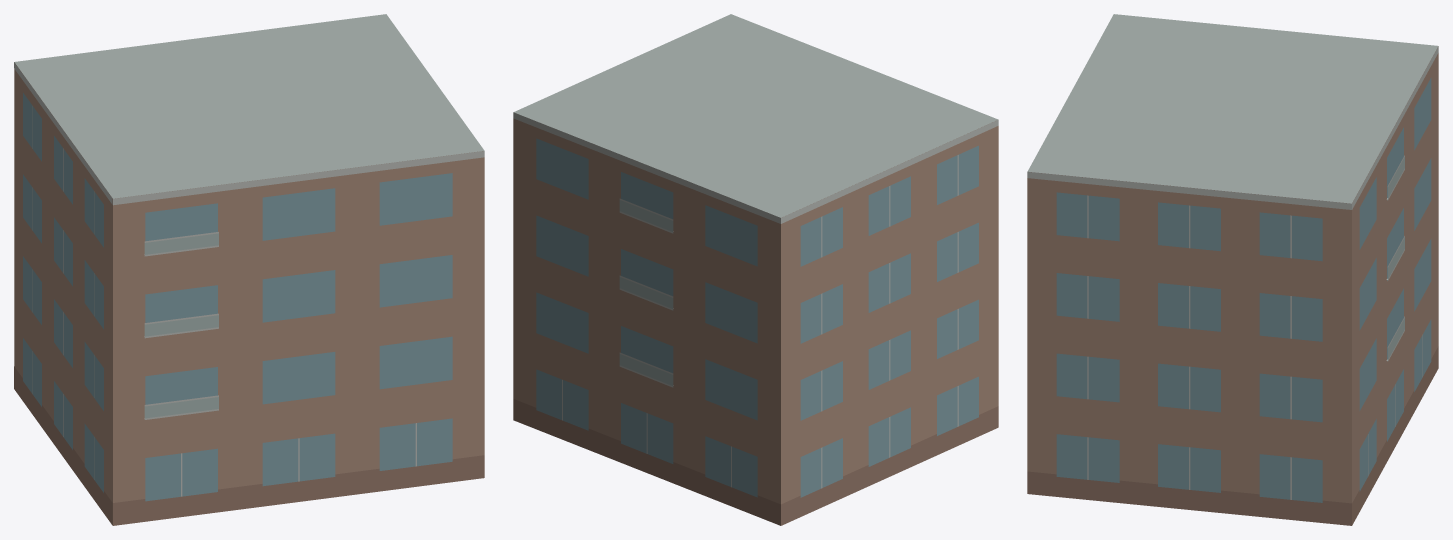
The model's file is residential-8eaa564a-c9c3-4e78-b831-232d42df072b.glb.
3 views of the same model, side by side, from view 1: azimuth 30°, elevation 25°; view 2: azimuth 150°, elevation 25°; view 3: azimuth 270°, elevation 25° (orthographic). The views are drawn at different scales.
Visible parts, largest first — view 1: residential-8eaa564a-c9c3-4e78-b831-232d42df072b.tmp; view 2: residential-8eaa564a-c9c3-4e78-b831-232d42df072b.tmp; view 3: residential-8eaa564a-c9c3-4e78-b831-232d42df072b.tmp.
Boxes of the visible parts, x1,y1,x2,y2 form: residential-8eaa564a-c9c3-4e78-b831-232d42df072b.tmp: [14, 14, 484, 525]; residential-8eaa564a-c9c3-4e78-b831-232d42df072b.tmp: [513, 14, 998, 525]; residential-8eaa564a-c9c3-4e78-b831-232d42df072b.tmp: [1027, 14, 1438, 525].
Bounding box in the file's own units: 15.4 × 12.2 × 14.12.
